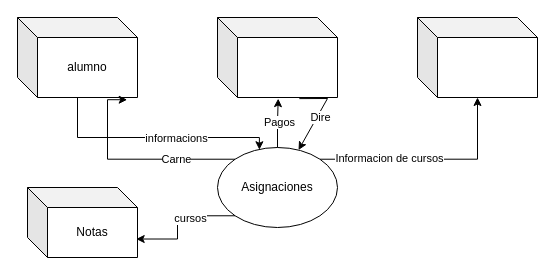
The diagram is 555 pixels wide and 275 high, and some of its shapes have lost their labels. The centre of each missing label's shape, as x and y in pixels:
Finanzas: the point at 277,57
Maestros: the point at 477,57
